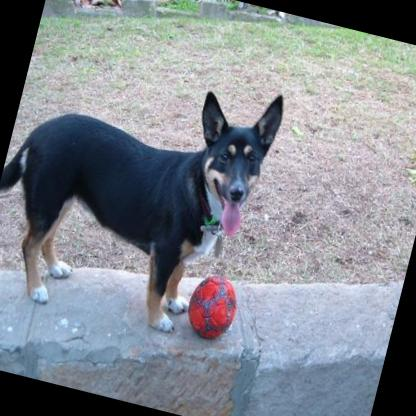kelpie: (0, 31, 287, 348)
